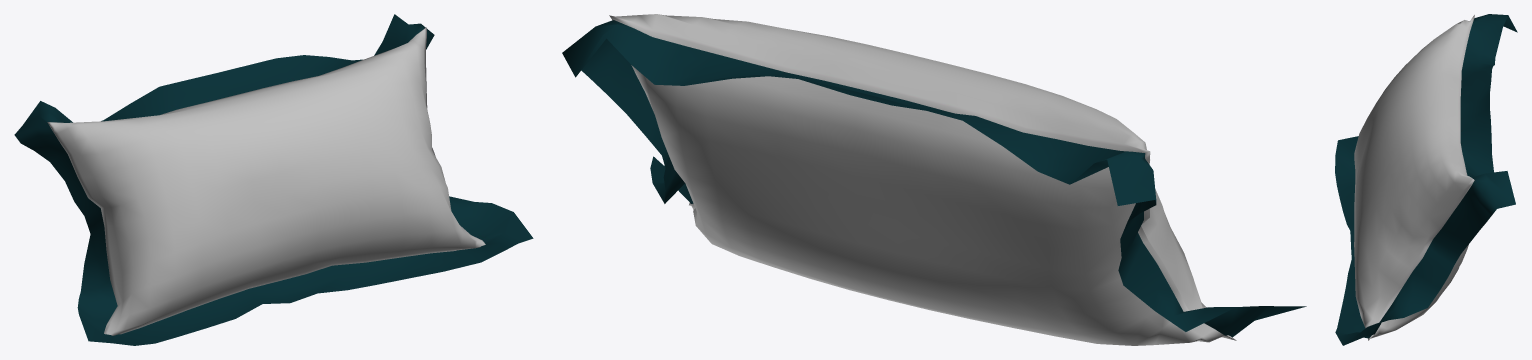
3 views of the same model, side by side, from view 1: azimuth 30°, elevation 25°; view 2: azimuth 150°, elevation 25°; view 3: azimuth 270°, elevation 25° (orthographic). The views are drawn at different scales.
Parts seen in each view (by area): view 1: Pollow05; view 2: Pollow05; view 3: Pollow05.
Boxes of the visible parts, x1,y1,x2,y2 form: Pollow05: [14, 14, 533, 345]; Pollow05: [562, 14, 1306, 345]; Pollow05: [1335, 14, 1517, 345].
Bounding box in the file's own units: 2 × 0.7707 × 0.7805.
Materials: 1 (1 with a texture image).
